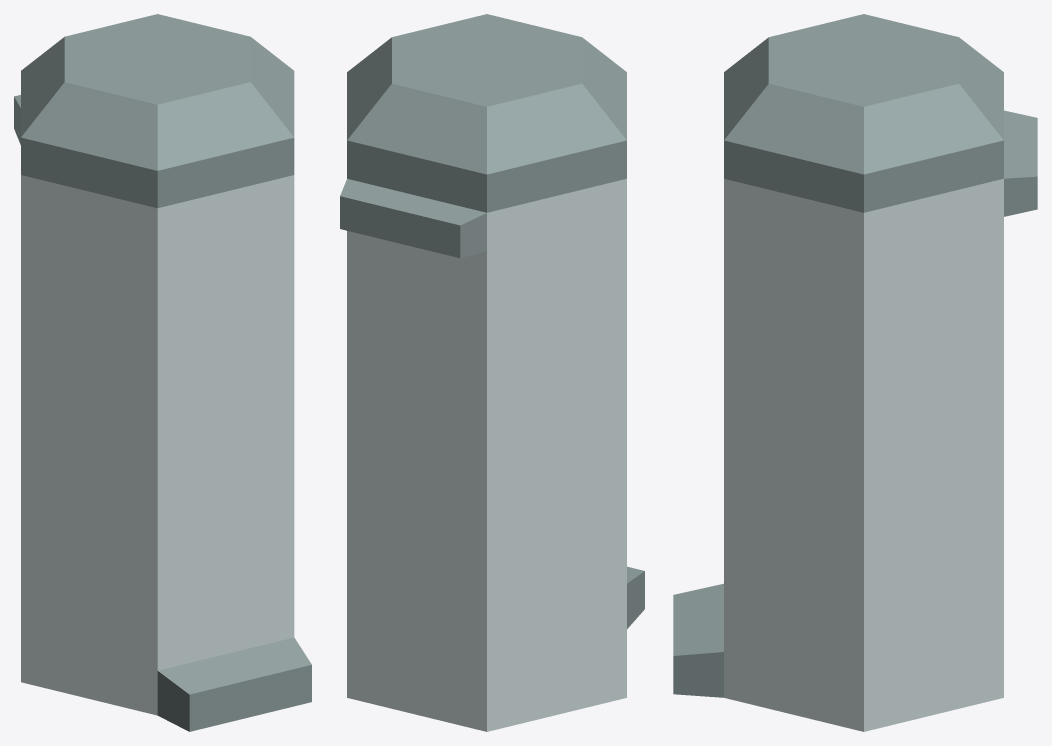
Rendered from trash_can.fbx.
3 renders of one model, left to right at view 1: azimuth 30°, elevation 25°; view 2: azimuth 150°, elevation 25°; view 3: azimuth 270°, elevation 25°, orthographic. The views are drawn at different scales.
Parts seen in each view (by area): view 1: trash_can; view 2: trash_can; view 3: trash_can.
Boxes of the visible parts, x1,y1,x2,y2 form: trash_can: [14, 14, 311, 731]; trash_can: [340, 14, 644, 731]; trash_can: [673, 14, 1037, 731].
Size of the model in its own units: 0.4369 by 0.9 by 0.4925.
